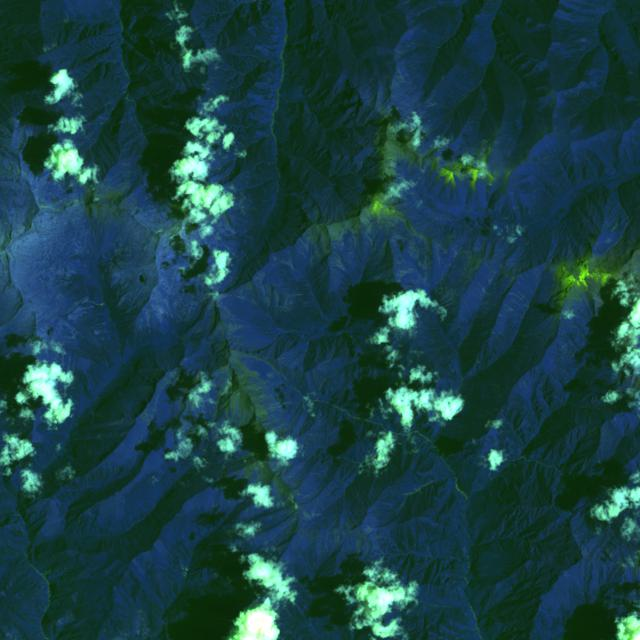landslides: (279, 592, 312, 627), (151, 286, 174, 319), (57, 297, 90, 315), (519, 333, 551, 344), (332, 250, 348, 271), (68, 306, 94, 317), (171, 426, 180, 457), (505, 304, 521, 318), (516, 288, 529, 305), (438, 300, 458, 310), (558, 368, 573, 381), (0, 97, 11, 113), (484, 261, 496, 275), (492, 331, 503, 345), (179, 563, 189, 577), (509, 291, 523, 301), (299, 238, 308, 253), (88, 323, 107, 330), (146, 307, 151, 333), (81, 301, 105, 306)
